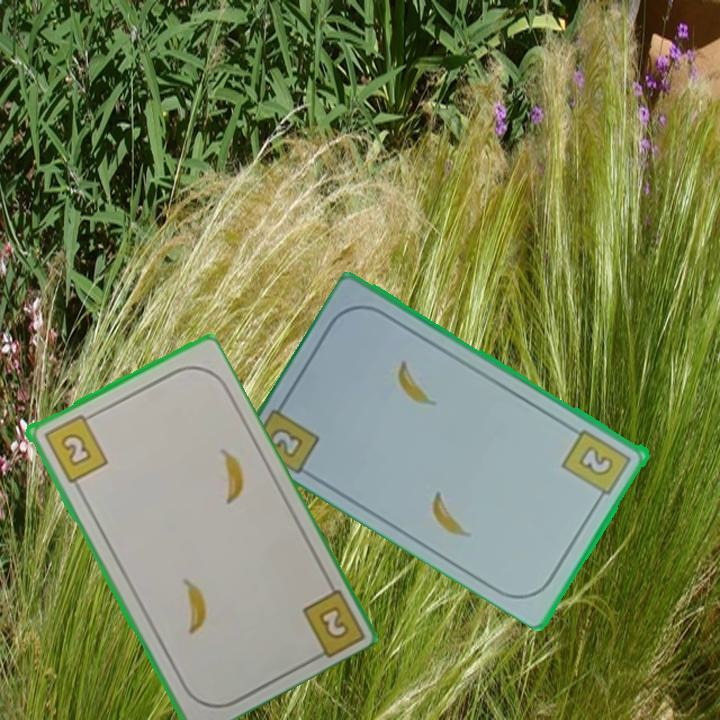2b: (559, 425, 635, 505), (40, 409, 110, 486), (314, 602, 352, 643), (268, 427, 307, 461)
